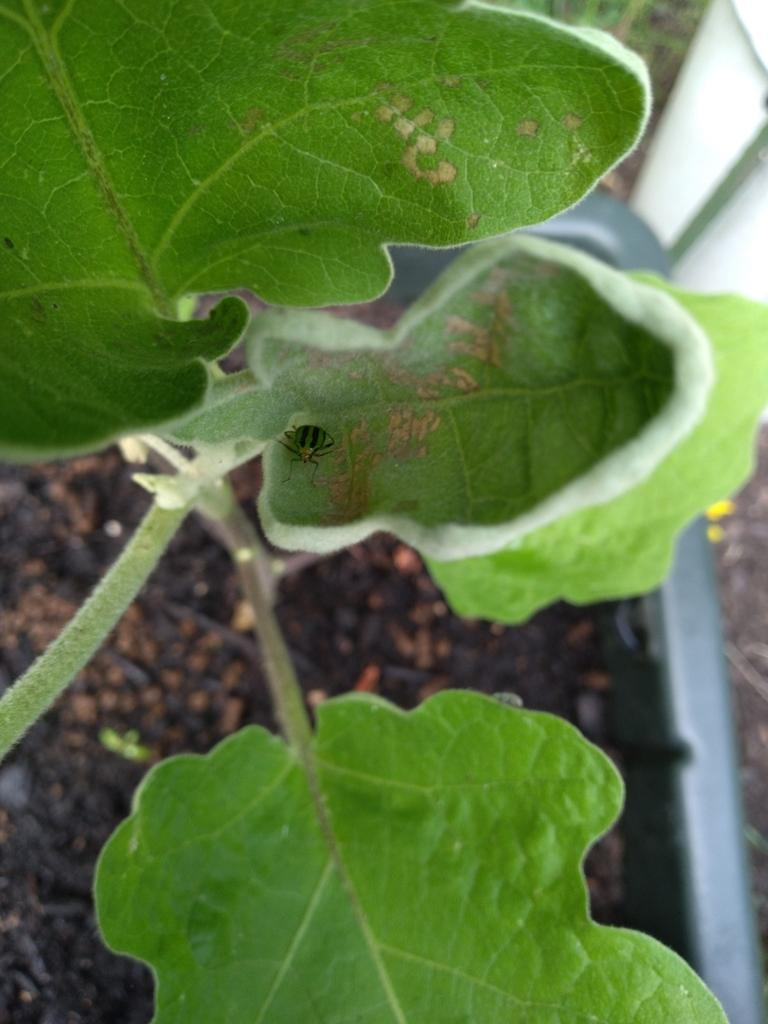plant_bugs: (256, 394, 360, 497)
